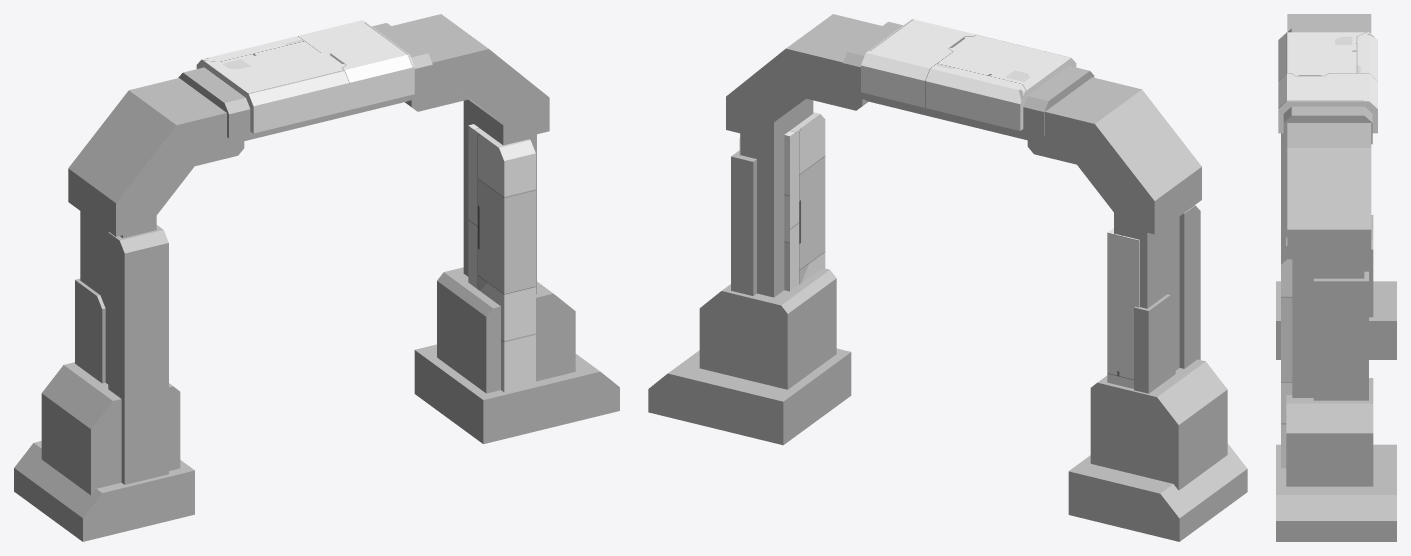
Rendered from SM_Arch_4x6_1.fbx.
3 renders of one model, left to right at view 1: azimuth 30°, elevation 25°; view 2: azimuth 150°, elevation 25°; view 3: azimuth 270°, elevation 25°, orthographic. The views are drawn at different scales.
Parts seen in each view (by area): view 1: SM_Arch_4x6_1; view 2: SM_Arch_4x6_1; view 3: SM_Arch_4x6_1.
Boxes of the visible parts, left/top/right/bottom form: SM_Arch_4x6_1: left=14, top=14, right=619, bottom=541; SM_Arch_4x6_1: left=648, top=14, right=1247, bottom=541; SM_Arch_4x6_1: left=1276, top=14, right=1396, bottom=541.
Size of the model in its own units: 664 by 475 by 147.
